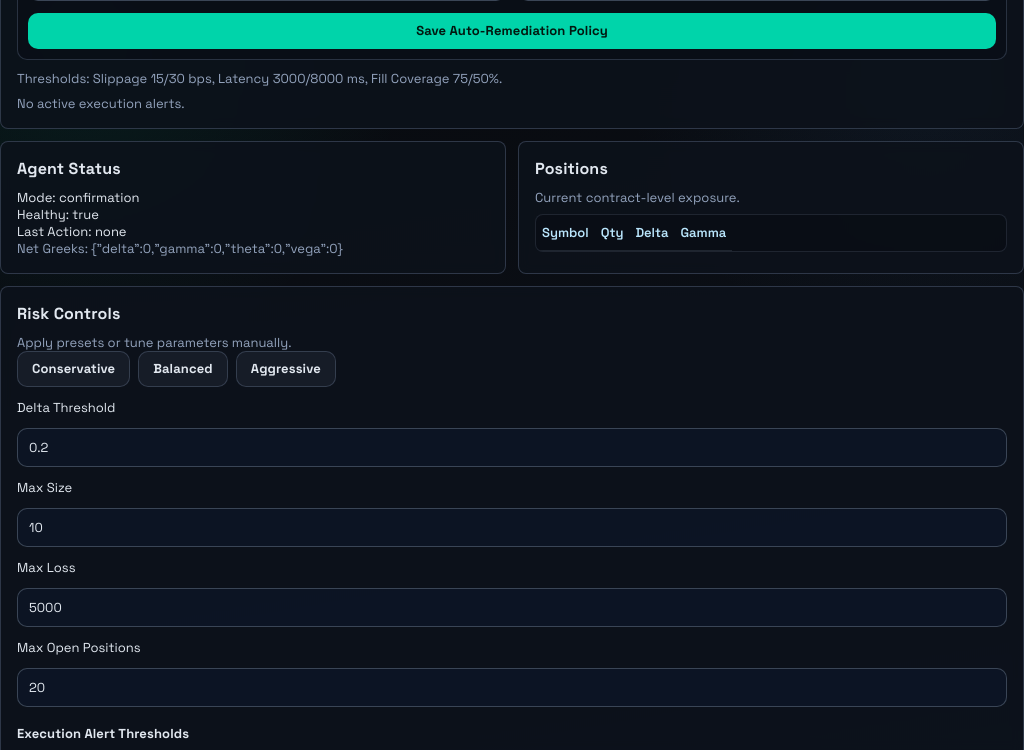
Test: DashboardPage Risk Controls › applies preset values
(page scrolled)
Click the button "Conservative" at (74, 368), box [17,350,130,386]
(page scrolled)
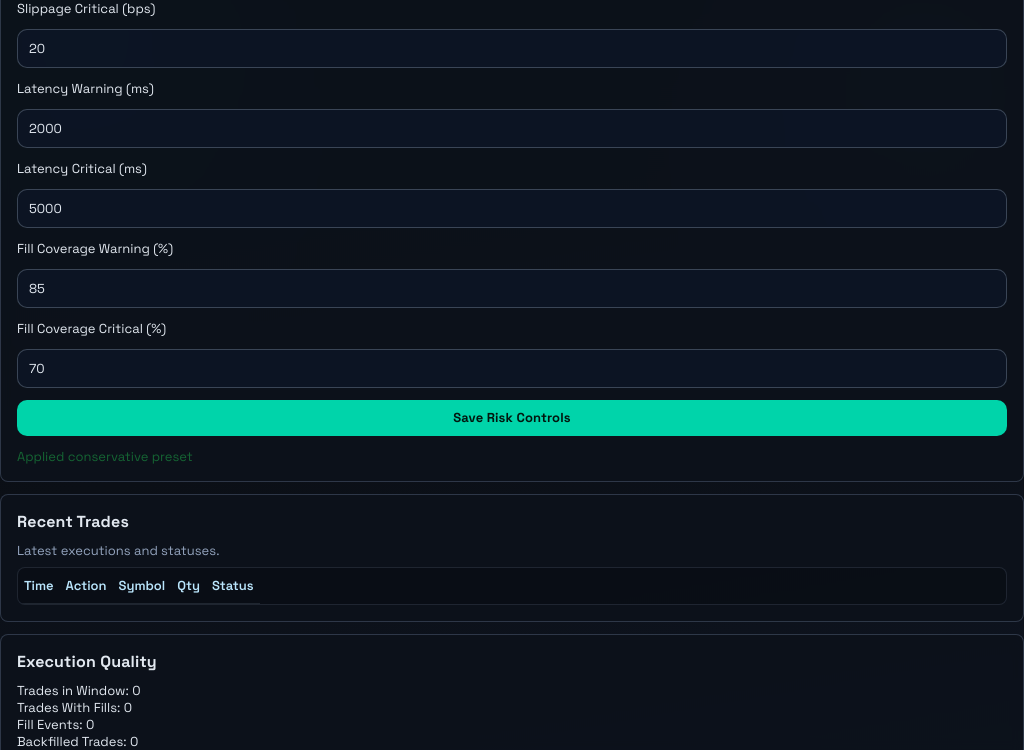
Result: the field labelled "Fill Coverage Critical (%)" holds "70" at [17,348,1007,388]
